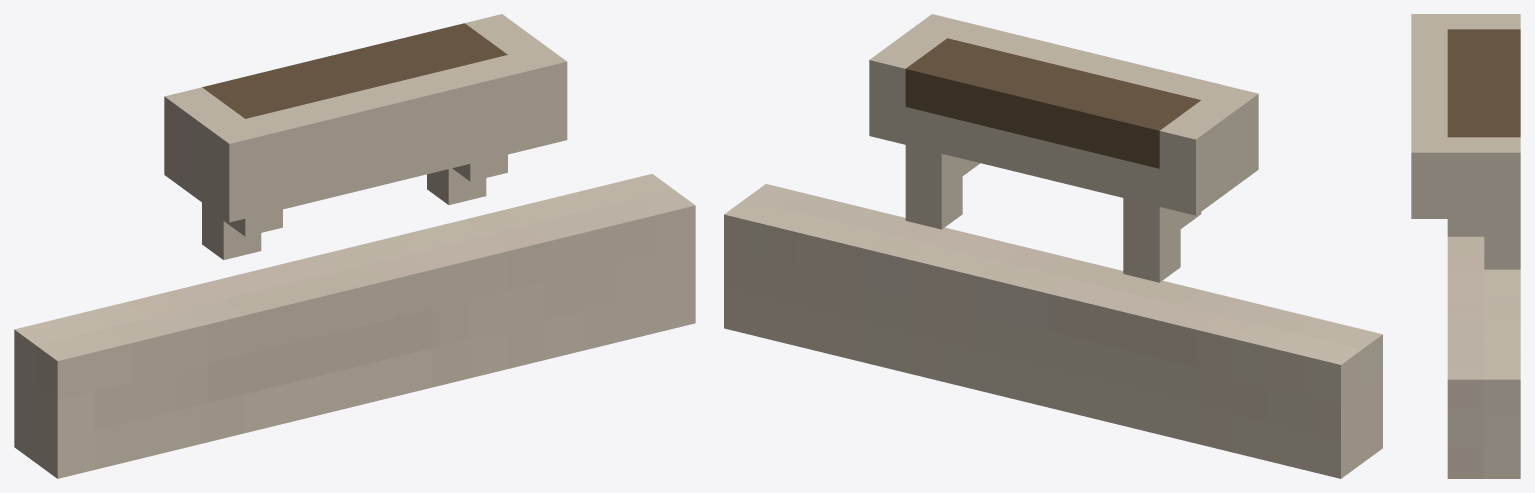
Rendered from palazzo29.glb.
The picture shows the model from 3 angles, left to right: view 1: azimuth 30°, elevation 25°; view 2: azimuth 150°, elevation 25°; view 3: azimuth 270°, elevation 25°; orthographic projection. The views are drawn at different scales.
Visible parts, largest first — view 1: Vaso.Marcapiano; view 2: Vaso.Marcapiano; view 3: Vaso.Marcapiano.
Part boxes in pixels (x1,y1,x2,y2): Vaso.Marcapiano: [14, 14, 695, 478]; Vaso.Marcapiano: [724, 14, 1382, 478]; Vaso.Marcapiano: [1411, 14, 1520, 478].
Bounding box in the file's own units: 17 × 8 × 3.
1 material, 1 textured.
